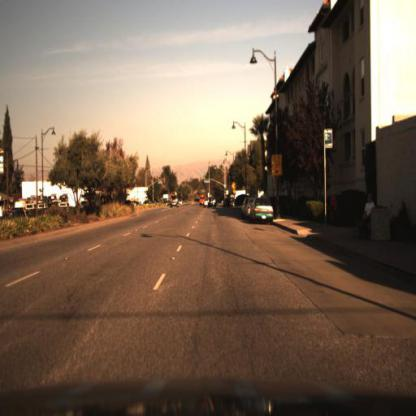car: (251, 197, 276, 223), (168, 188, 180, 213), (206, 194, 218, 212)
pedestrian: (360, 193, 378, 238)
